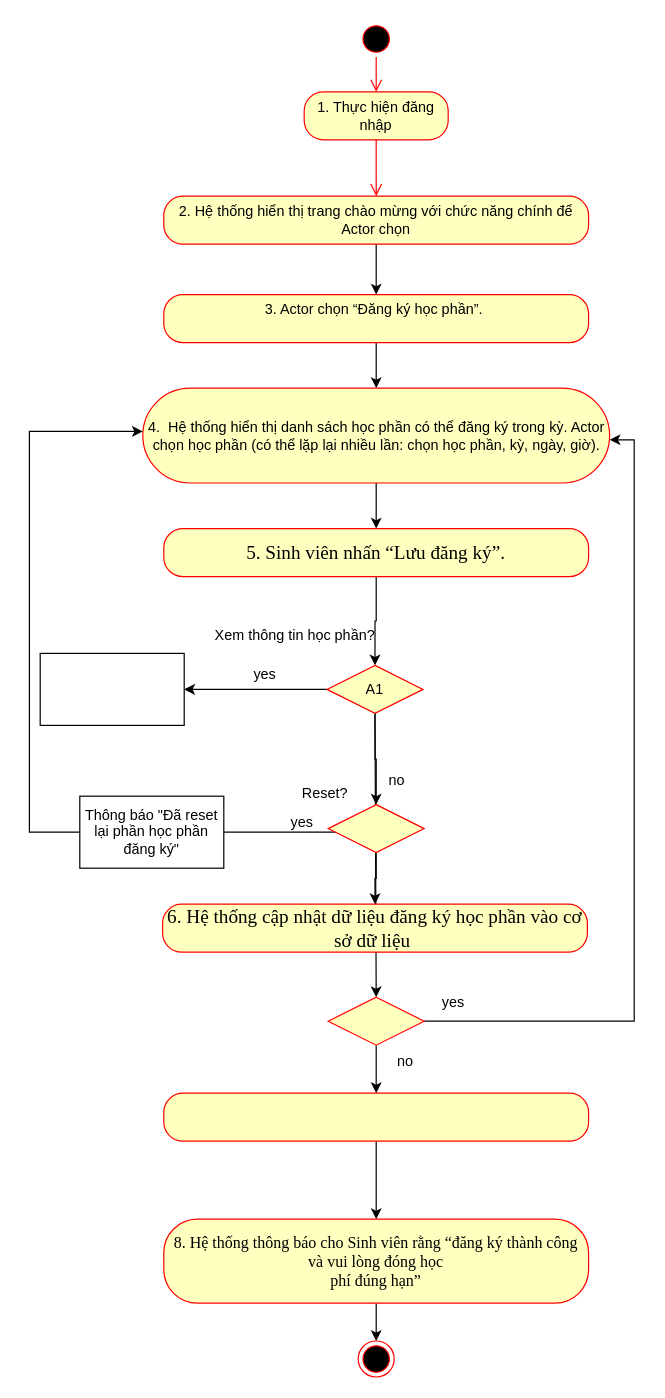
Image size: 665x1398. Some labels were removed from this diagram. The centre of each missing label's shape, as x and y in pixels:
"7. Hệ thống gửi thông tin đăng ký sang Hệ thống thanh toán để tính học phí." belongs at point 376,1116.
"A2" belongs at point 375,828.
"E1" belongs at point 375,1020.
"Hiển thị thông tin học phần" belongs at point 111,688.
